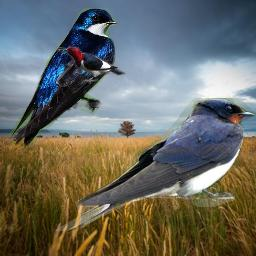Swallow: (55, 98, 256, 238), (9, 8, 118, 147)
Woodpecker: (56, 45, 126, 84)
